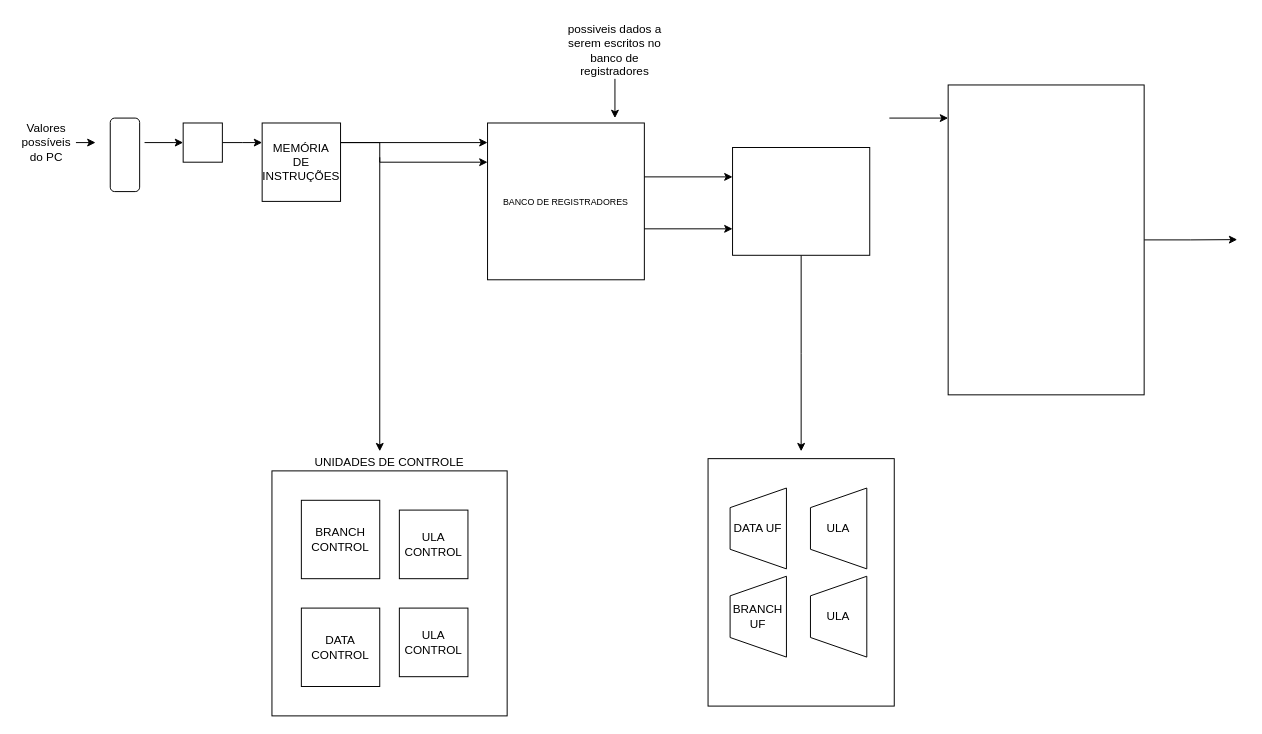
Some shapes in this 1262 by 734 pixel diagram are drawn without their labels. Each missing label, with the centre of its shape:
MUX: the point at 124,154
PC: the point at 202,142
RAM: the point at 1045,239
UF's: the point at 801,201
